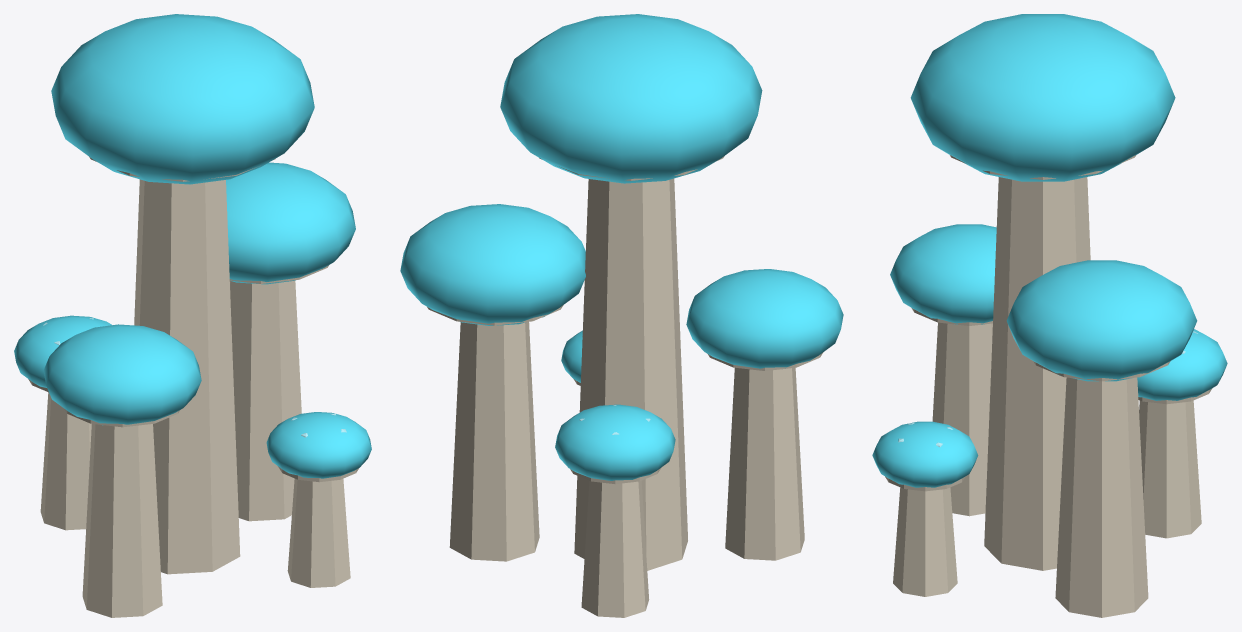
Rendered from Planta_GlowMushroom.fbx.
3 views of the same model, side by side, from view 1: azimuth 30°, elevation 25°; view 2: azimuth 150°, elevation 25°; view 3: azimuth 270°, elevation 25° (orthographic).
Parts seen in each view (by area): view 1: Corpo_GlowMushroom, Brilho_GlowMushroom; view 2: Brilho_GlowMushroom, Corpo_GlowMushroom; view 3: Brilho_GlowMushroom, Corpo_GlowMushroom.
Part boxes in pixels (x1,y1,x2,y2): Corpo_GlowMushroom: [28, 157, 358, 617]; Brilho_GlowMushroom: [14, 14, 371, 478]; Brilho_GlowMushroom: [400, 14, 843, 480]; Corpo_GlowMushroom: [427, 156, 823, 617]; Brilho_GlowMushroom: [872, 14, 1227, 487]; Corpo_GlowMushroom: [885, 155, 1212, 617].
Bounding box in the file's own units: 1.38 × 1.92 × 1.21.
Materials: 1 (1 with a texture image).
